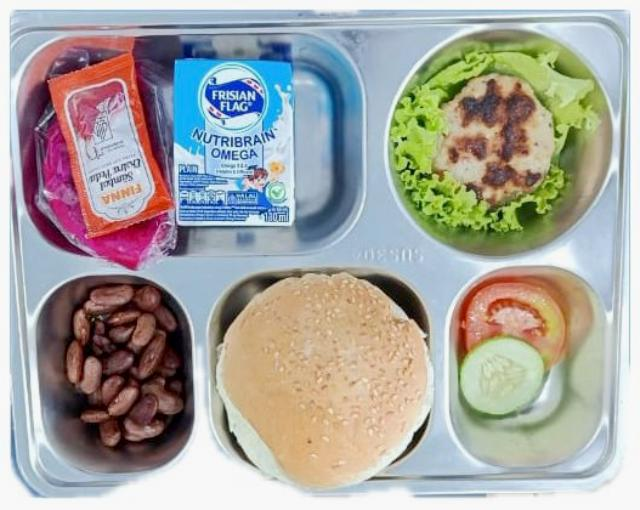ayam: (434, 75, 552, 208)
buah: (34, 110, 175, 269)
kacang: (63, 285, 184, 448)
roti: (214, 274, 432, 488)
sayur: (459, 282, 564, 416)
susu: (173, 59, 295, 227)
